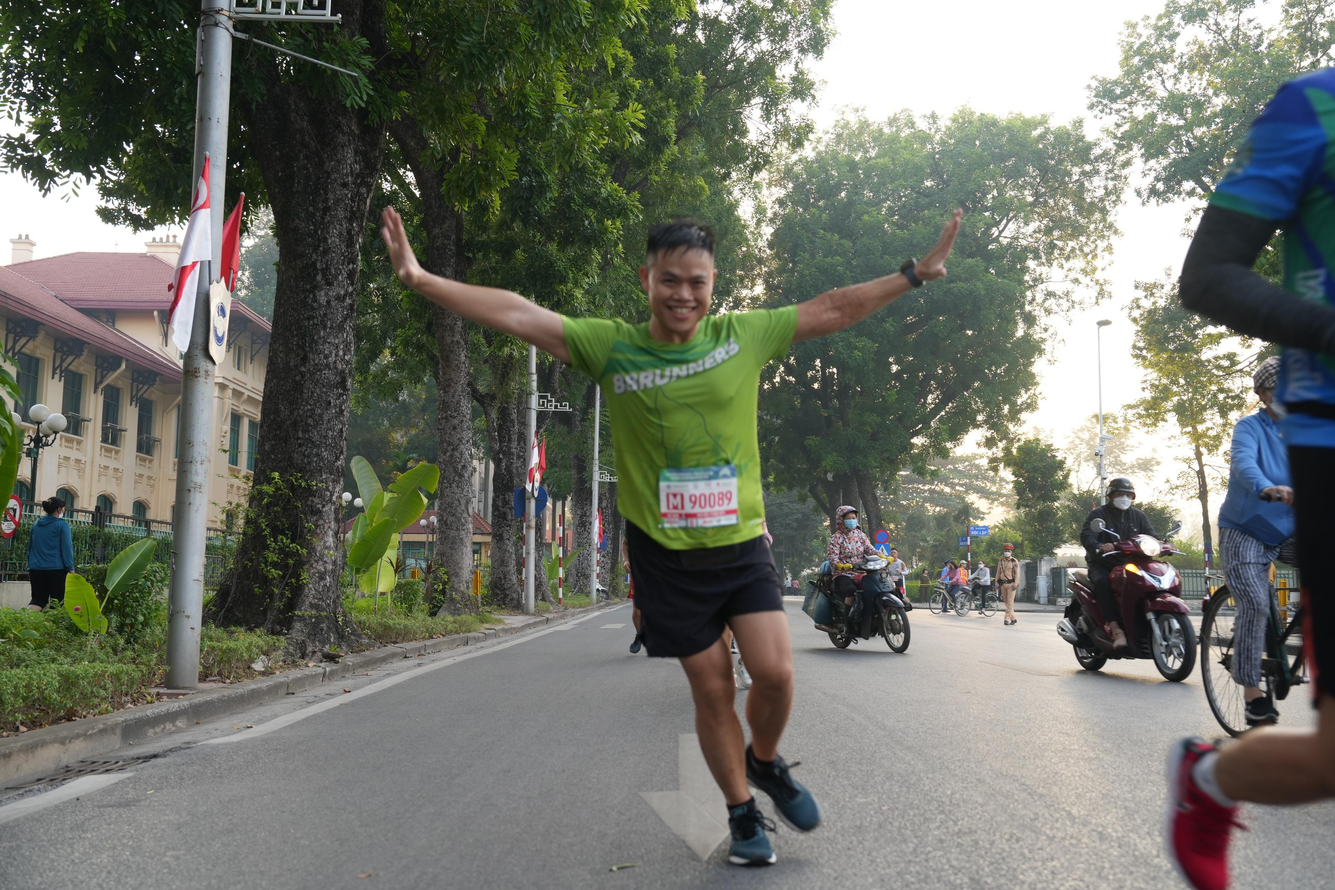bib: (658, 470, 740, 529)
